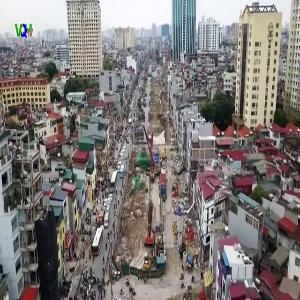drone: (161, 152, 206, 197)
